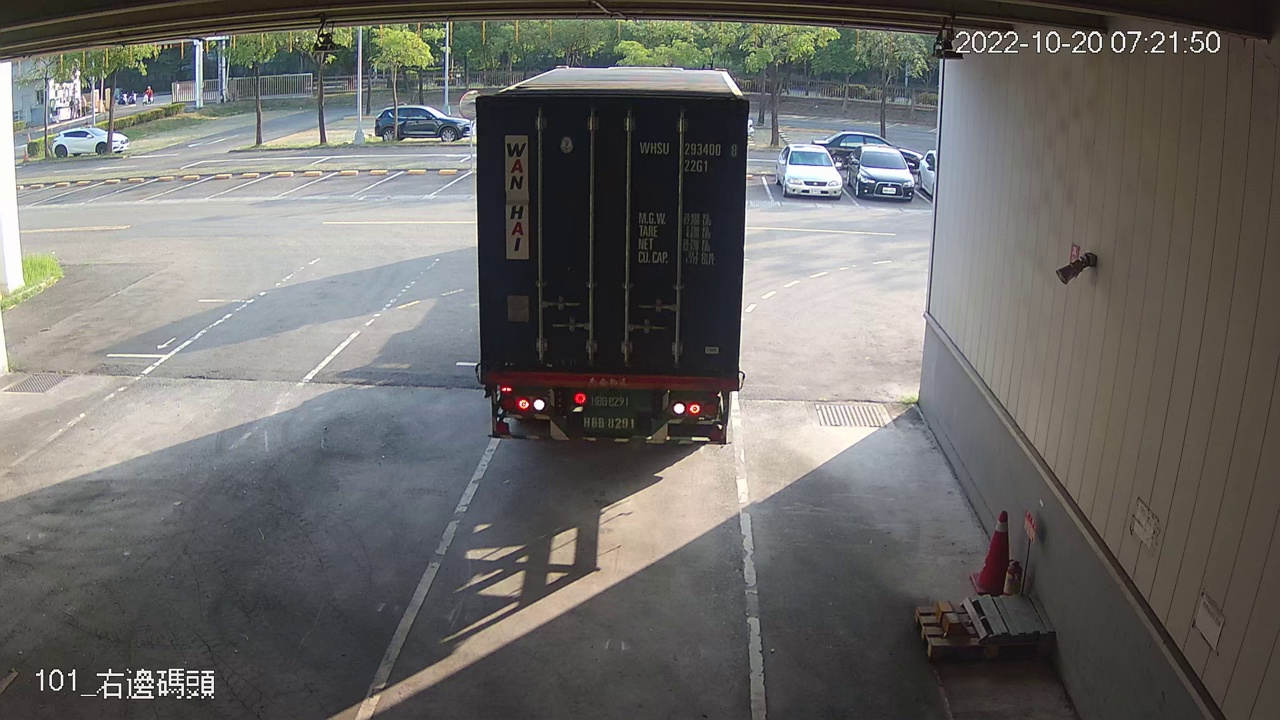container: (632, 132, 741, 177)
